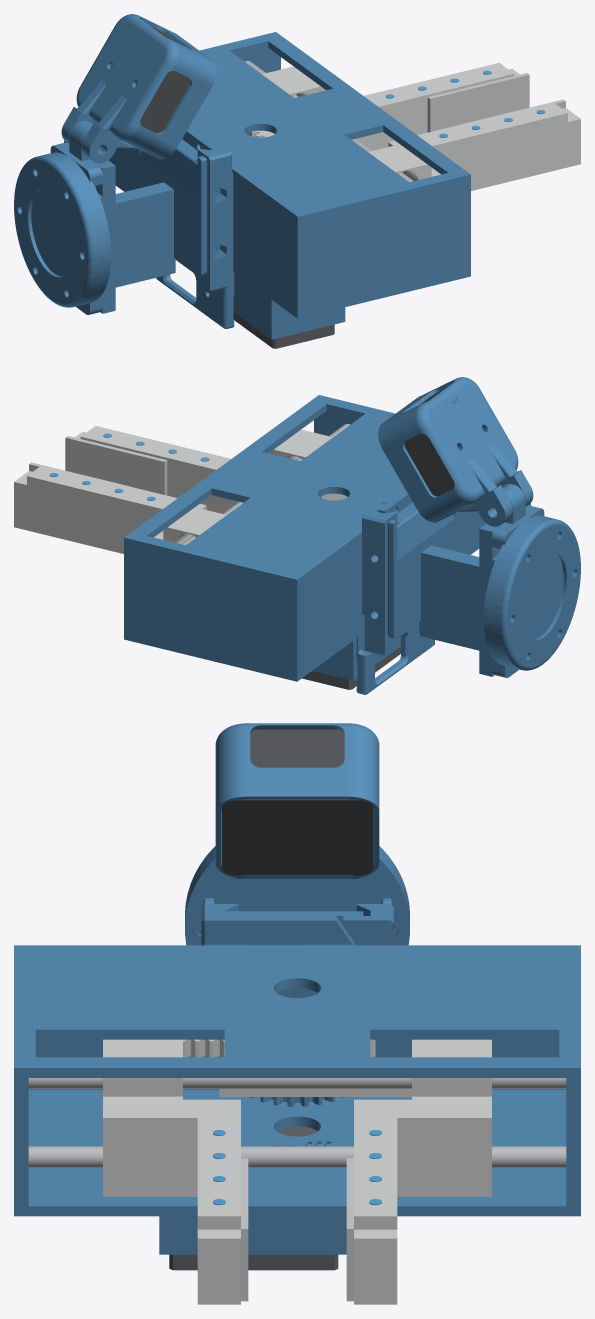
Rendered from parallel_openarm.glb.
The picture shows the model from 3 angles, top to bottom: view 1: azimuth 30°, elevation 25°; view 2: azimuth 150°, elevation 25°; view 3: azimuth 270°, elevation 25°; orthographic projection. The views are drawn at different scales.
Visible parts, largest first — view 1: parallel_base_sa, d405_cup, d405_frame, openarm_adapter, parallel_finger_right, parallel_finger_left, parallel_pad_left, d405_envelope, parallel_carriage_right, parallel_carriage_left, servo_envelope; view 2: parallel_base_sa, d405_cup, d405_frame, openarm_adapter, parallel_finger_left, chopstick_clip_sa, parallel_finger_right, parallel_pad_right, d405_envelope, parallel_carriage_left, parallel_carriage_right, servo_envelope; view 3: parallel_base_sa, parallel_finger_left, parallel_finger_right, d405_envelope, d405_cup, parallel_rod_bottom, openarm_adapter, parallel_carriage_left, parallel_rod_top, parallel_carriage_right, d405_frame, servo_envelope (+3 smaller).
Part boxes in pixels (box(x1,y1,x2,y2)): parallel_base_sa: box(108, 32, 470, 339); d405_cup: box(61, 14, 216, 163); d405_frame: box(64, 121, 207, 313); openarm_adapter: box(14, 142, 111, 314); parallel_finger_right: box(388, 102, 580, 190); parallel_finger_left: box(325, 63, 519, 150); parallel_pad_left: box(427, 73, 529, 132); d405_envelope: box(110, 26, 190, 133); parallel_carriage_right: box(368, 144, 431, 180); parallel_carriage_left: box(247, 66, 325, 137); servo_envelope: box(233, 312, 334, 348); parallel_base_sa: box(124, 395, 486, 694); d405_cup: box(378, 377, 533, 526); d405_frame: box(387, 484, 530, 676); openarm_adapter: box(483, 505, 580, 677); parallel_finger_left: box(14, 465, 206, 553); chopstick_clip_sa: box(362, 503, 397, 656); parallel_finger_right: box(75, 426, 269, 513); parallel_pad_right: box(65, 436, 167, 495); d405_envelope: box(404, 388, 484, 496); parallel_carriage_left: box(163, 507, 226, 543); parallel_carriage_right: box(269, 429, 347, 500); servo_envelope: box(302, 646, 400, 689); parallel_base_sa: box(14, 904, 580, 1254); parallel_finger_left: box(354, 1096, 491, 1304); parallel_finger_right: box(103, 1096, 240, 1304); d405_envelope: box(222, 729, 372, 875); d405_cup: box(215, 723, 379, 878); parallel_rod_bottom: box(28, 1146, 566, 1167); openarm_adapter: box(185, 846, 409, 945); parallel_carriage_left: box(219, 1039, 491, 1096); parallel_rod_top: box(28, 1078, 566, 1088); parallel_carriage_right: box(103, 1039, 375, 1096); d405_frame: box(203, 879, 391, 911); servo_envelope: box(169, 1126, 338, 1270).
Size of the model in its own units: 0.229 by 0.1357 by 0.156.
